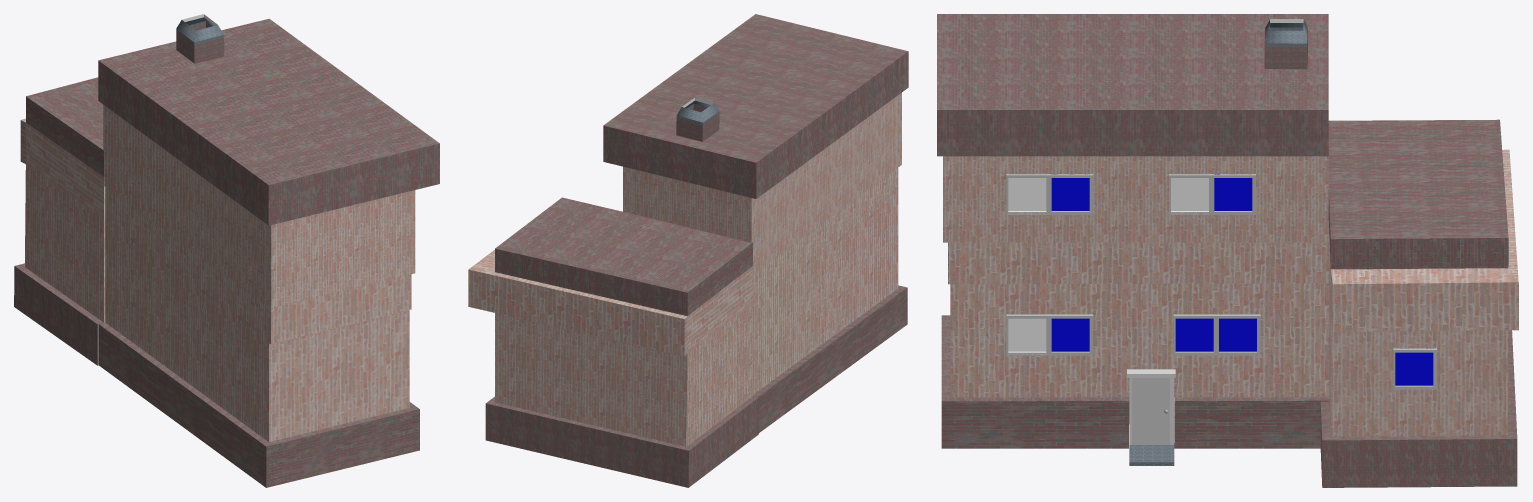
File: Building_4_VAL.fbx
3 renders of one model, left to right at view 1: azimuth 30°, elevation 25°; view 2: azimuth 150°, elevation 25°; view 3: azimuth 270°, elevation 25°, orthographic. The views are drawn at different scales.
Parts seen in each view (by area): view 1: roof, pCube1, pCube2, pCube3; view 2: pCube2, roof, pCube1, pCube3; view 3: roof, pCube1, pCube2, window (×5), window2 (×4), door6, pCube3, pCube4.
Part boxes in pixels (<box>): roof: <box>98,18,439,308</box>; pCube1: <box>97,187,419,487</box>; pCube2: <box>14,77,105,365</box>; pCube3: <box>176,14,224,63</box>; pCube2: <box>468,197,758,487</box>; roof: <box>603,14,908,273</box>; pCube1: <box>752,168,907,432</box>; pCube3: <box>676,97,719,141</box>; roof: <box>937,14,1328,242</box>; pCube1: <box>941,235,1329,448</box>; pCube2: <box>1320,119,1518,487</box>; window (×5): <box>1049,174,1436,389</box>; window2 (×4): <box>1006,174,1217,355</box>; door6: <box>1129,378,1173,444</box>; pCube3: <box>1264,19,1307,69</box>; pCube4: <box>1129,443,1174,465</box>.
Size of the model in its own units: 7.47 by 9.75 by 13.34.
